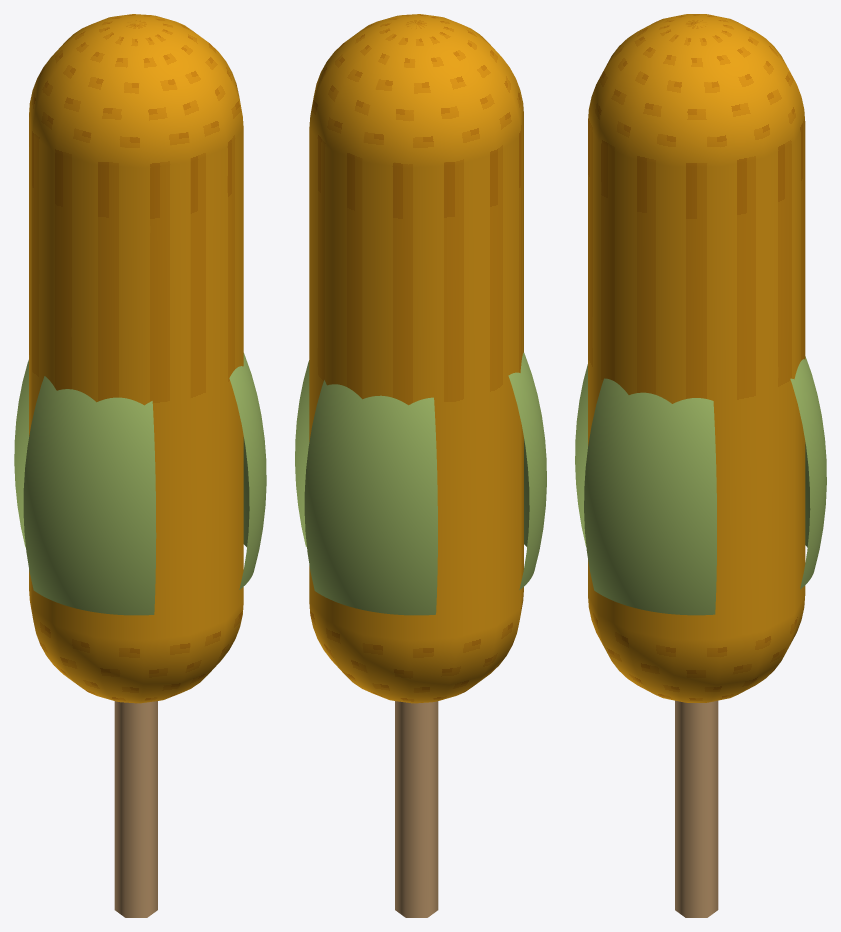
File: misir.glb
3 renders of one model, left to right at view 1: azimuth 30°, elevation 25°; view 2: azimuth 150°, elevation 25°; view 3: azimuth 270°, elevation 25°, orthographic.
Visible parts, largest first — view 1: misir; view 2: misir; view 3: misir.
Part boxes in pixels (x1=…): misir: x1=14, y1=14, x2=266, y2=917; misir: x1=295, y1=14, x2=546, y2=917; misir: x1=575, y1=14, x2=826, y2=917.
Bounding box in the file's own units: 0.06 × 0.225 × 0.0579.
3 materials, 1 textured.
